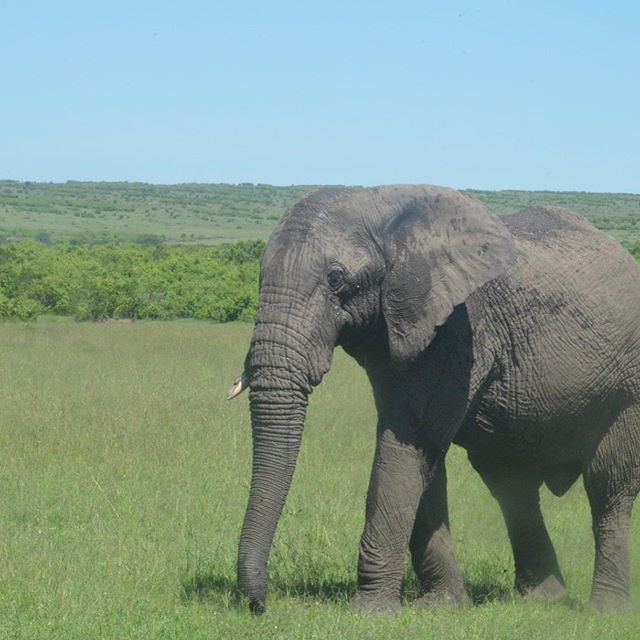animal: (233, 171, 640, 610)
grass: (4, 329, 239, 637)
sky: (8, 1, 640, 175)
vegetation: (10, 182, 247, 312)
